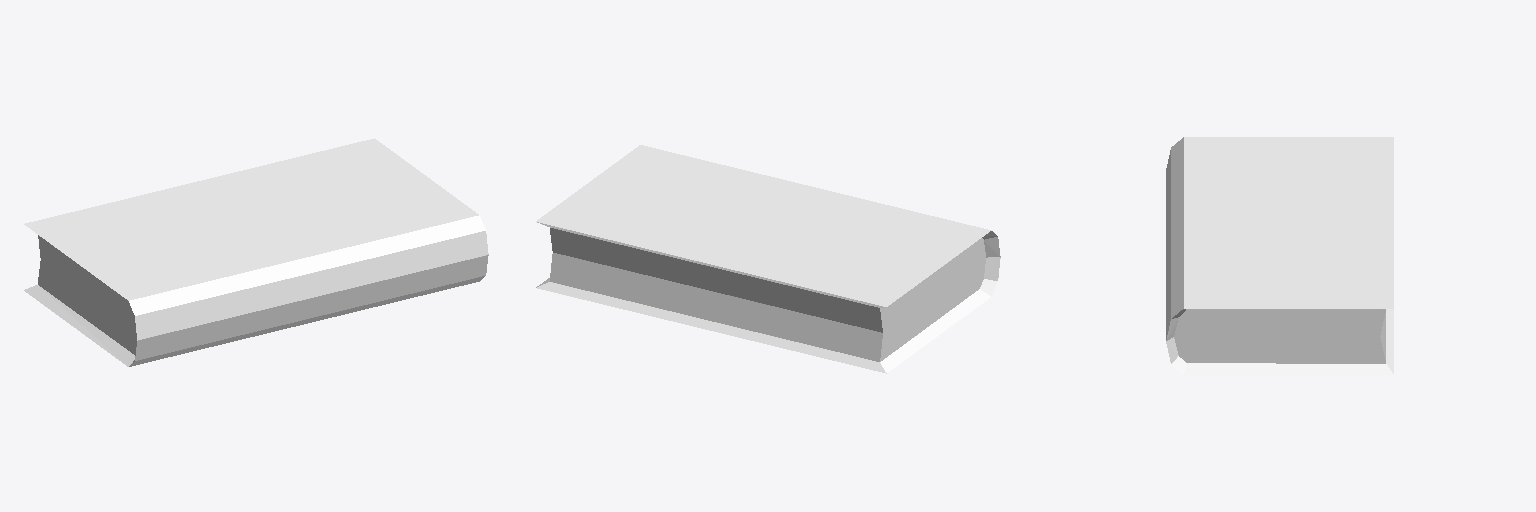
File: book13.obj
3 views of the same model, side by side, from view 1: azimuth 30°, elevation 25°; view 2: azimuth 150°, elevation 25°; view 3: azimuth 270°, elevation 25° (orthographic).
Parts seen in each view (by area): view 1: pCube1_pCube1; view 2: pCube1_pCube1; view 3: pCube1_pCube1.
Boxes of the visible parts, box(x1,y1,x2,y2) form: pCube1_pCube1: box(24, 138, 488, 366); pCube1_pCube1: box(536, 145, 1000, 373); pCube1_pCube1: box(1166, 137, 1393, 374).
Bounding box in the file's own units: 7.97 × 1.44 × 4.48.